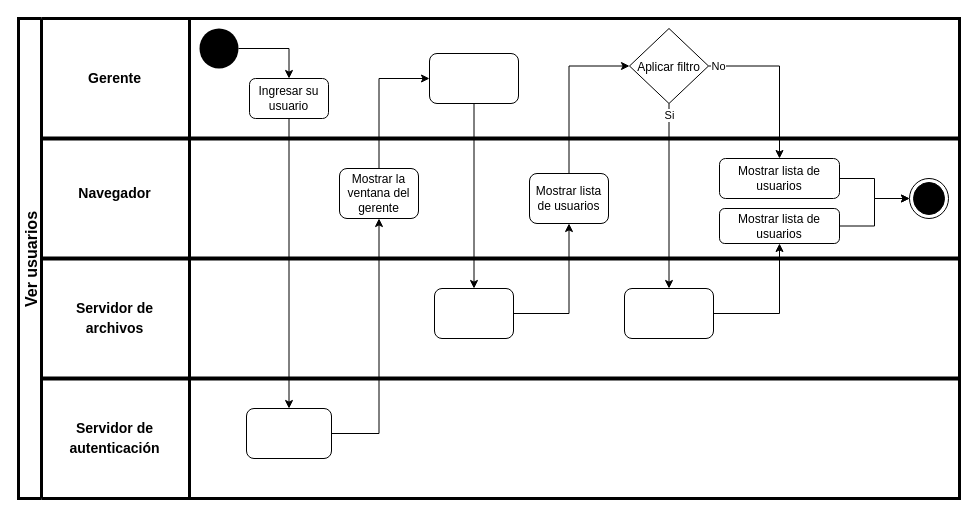
The diagram is 980 pixels wide and 518 high, and some of its shapes have lost their labels. Each missing label, with the centre of its shape:
"Autenticar los permisos de usuario" belongs at [289,433].
"Consultar usuarios" belongs at [474,313].
"Consultar usuarios con filtro" belongs at [669,313].
"Seleccionar la ventana de usuarios" belongs at [473,78].
